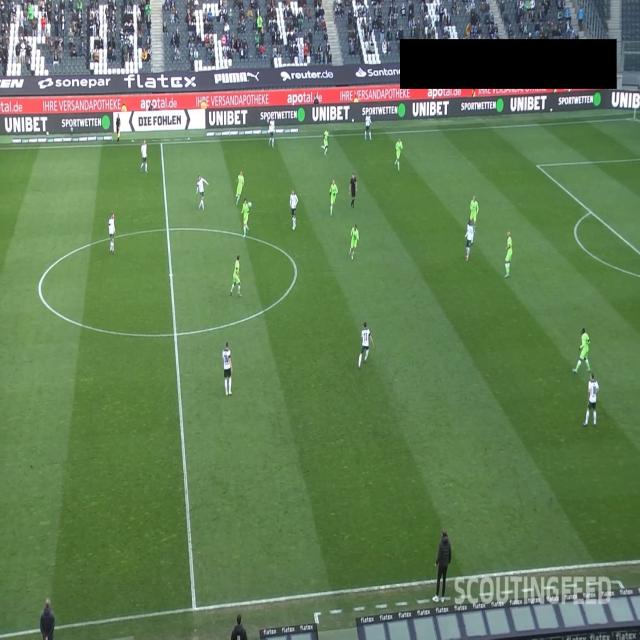ball: (248, 201, 252, 208)
